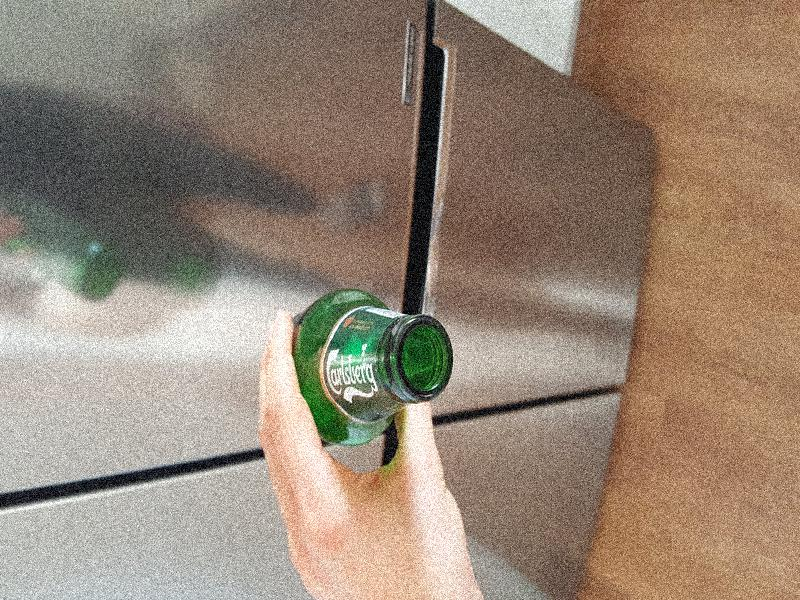Beer: (291, 289, 453, 441)
